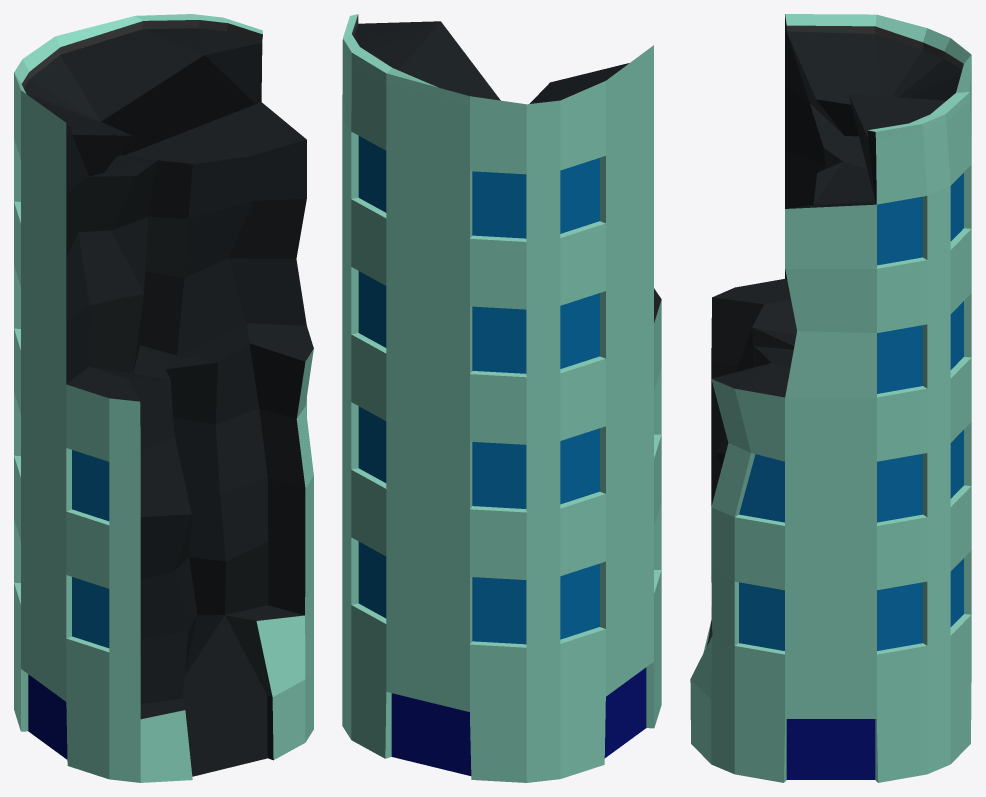
File: House_4_Damaged.fbx
The picture shows the model from 3 angles, left to right: view 1: azimuth 30°, elevation 25°; view 2: azimuth 150°, elevation 25°; view 3: azimuth 270°, elevation 25°; orthographic projection. The views are drawn at different scales.
Parts seen in each view (by area): view 1: House_4_Damaged; view 2: House_4_Damaged; view 3: House_4_Damaged.
Boxes of the visible parts, box(x1,y1,x2,y2) form: House_4_Damaged: box(14, 14, 313, 782); House_4_Damaged: box(342, 14, 661, 782); House_4_Damaged: box(690, 14, 971, 782).
Size of the model in its own units: 0.3177 by 0.8142 by 0.317.
